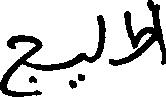X: (0, 30, 40, 96), (125, 0, 151, 68), (153, 0, 165, 69), (73, 48, 85, 92), (95, 10, 104, 65)
